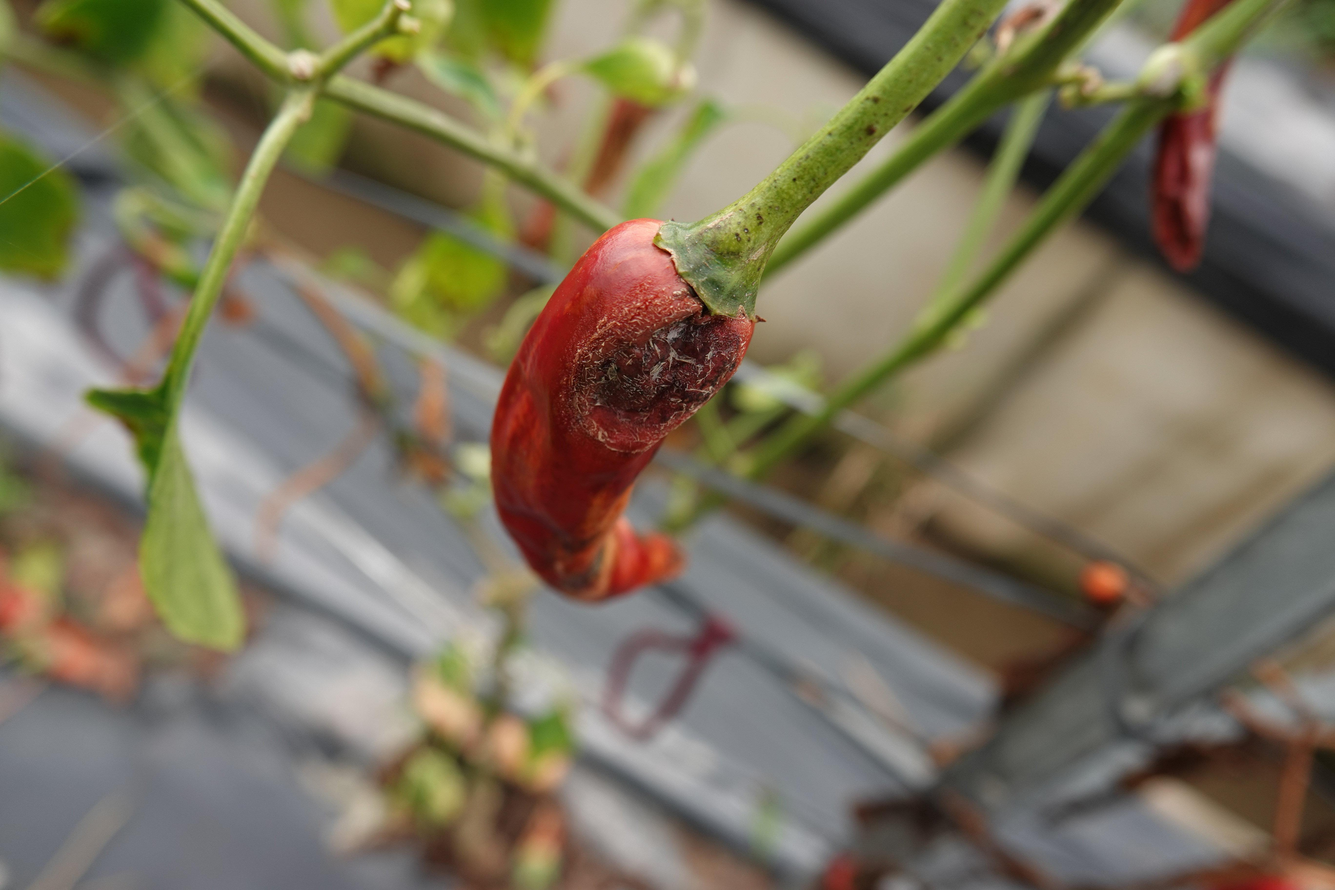Busuk Buah Antraknosa: (485, 215, 763, 604)
